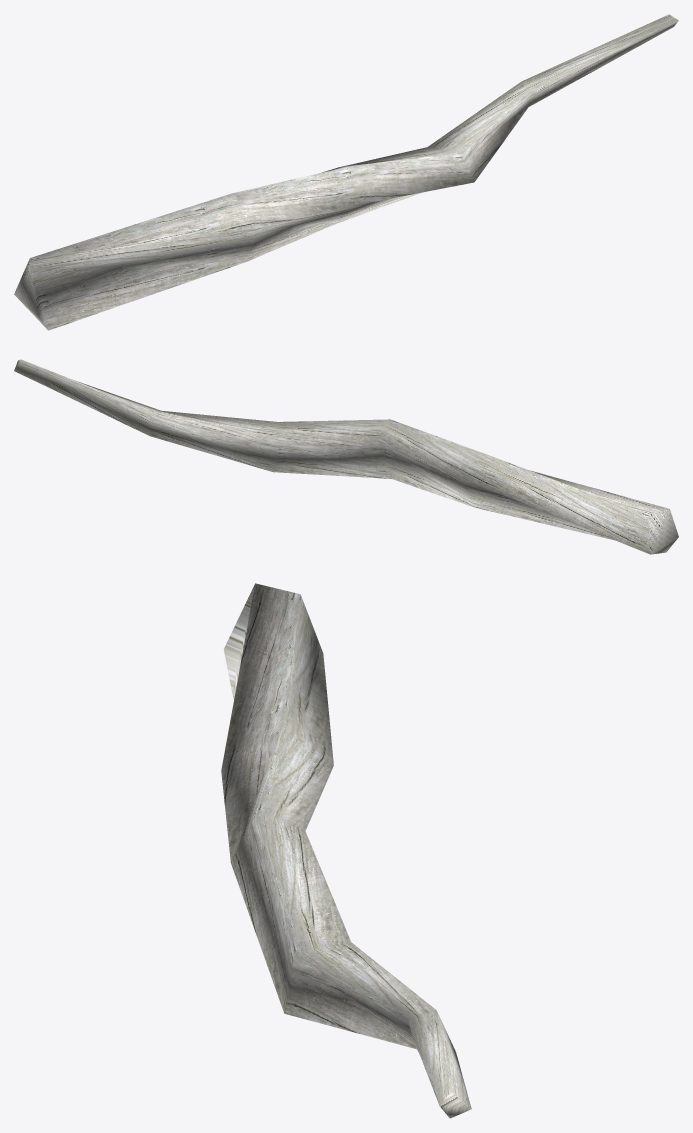
Rendered from shor_driftwood_a3_l1.fbx.
The picture shows the model from 3 angles, top to bottom: view 1: azimuth 30°, elevation 25°; view 2: azimuth 150°, elevation 25°; view 3: azimuth 270°, elevation 25°; orthographic projection. The views are drawn at different scales.
Parts seen in each view (by area): view 1: mesh_node; view 2: mesh_node; view 3: mesh_node.
Boxes of the visible parts, left/top/right/bottom form: mesh_node: left=14, top=14, right=678, bottom=330; mesh_node: left=14, top=359, right=678, bottom=554; mesh_node: left=221, top=583, right=471, bottom=1118.
Size of the model in its own units: 6.85 by 0.9602 by 1.22.
